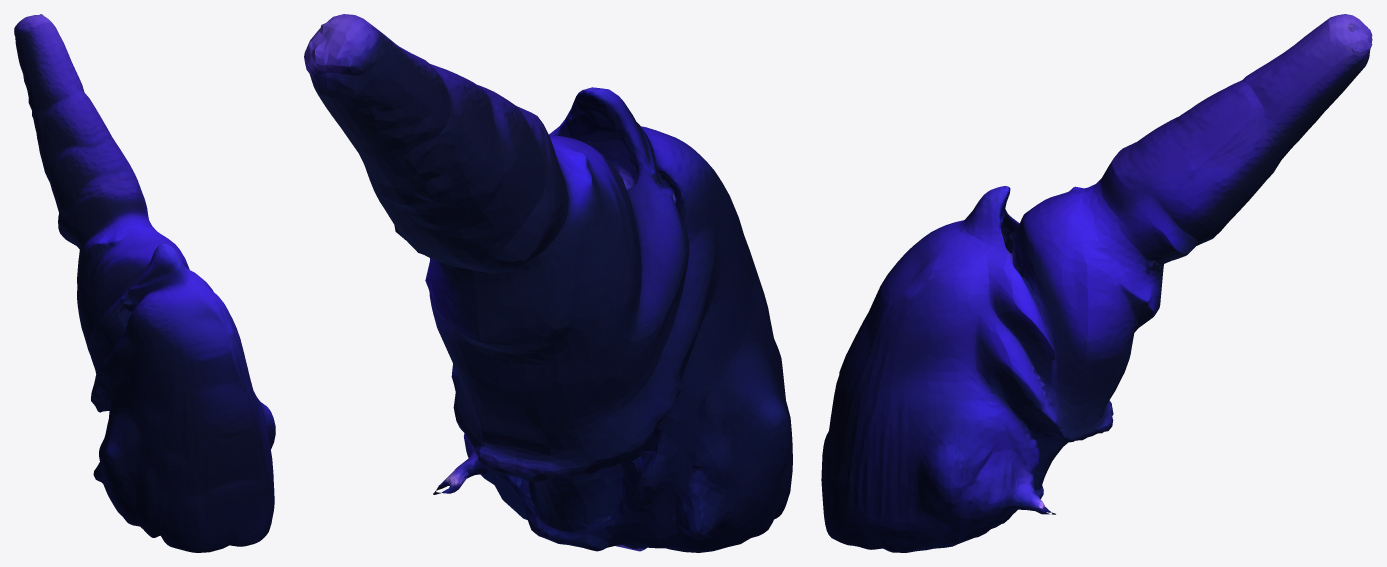
The picture shows the model from 3 angles, left to right: view 1: azimuth 30°, elevation 25°; view 2: azimuth 150°, elevation 25°; view 3: azimuth 270°, elevation 25°; orthographic projection. The views are drawn at different scales.
Visible parts, largest first — view 1: world; view 2: world; view 3: world.
Boxes of the visible parts, x1,y1,x2,y2 form: world: (14, 14, 275, 552); world: (304, 14, 792, 552); world: (821, 14, 1372, 552).
Size of the model in its own units: 0.4569 by 1 by 0.9901.
Materials: 1 (1 with a texture image).
